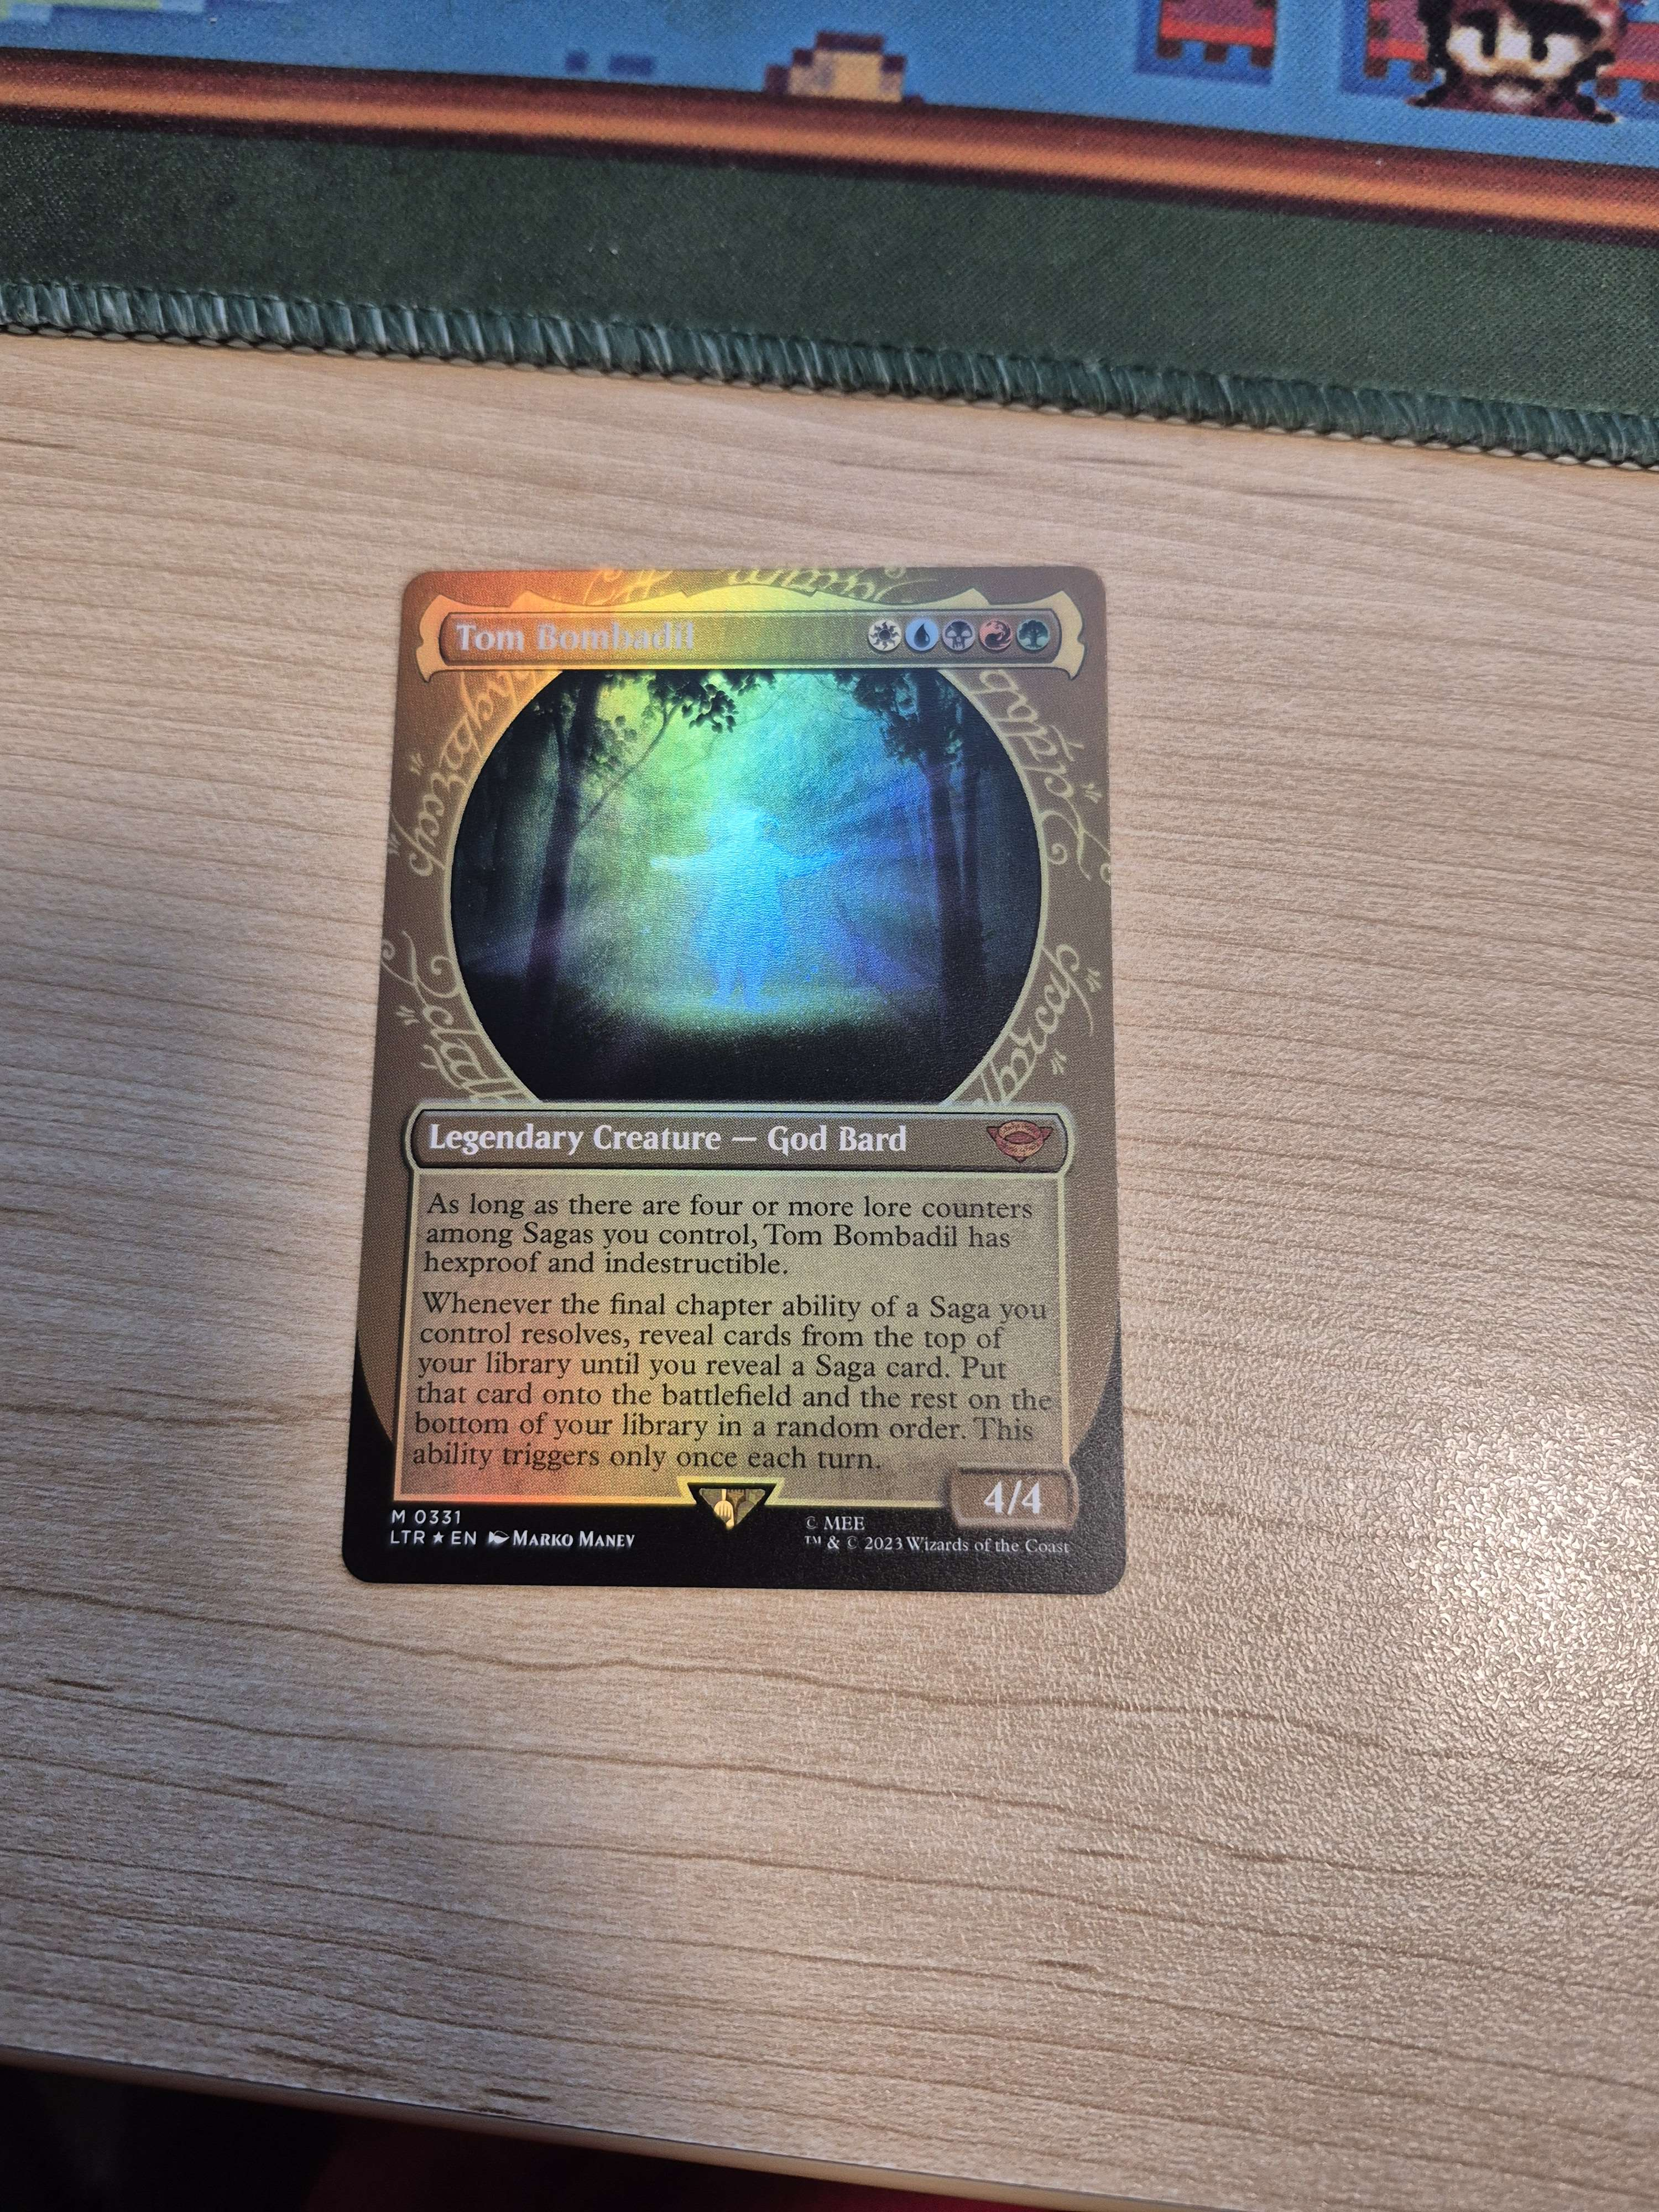mtg_card: (322, 550, 1145, 1611)
